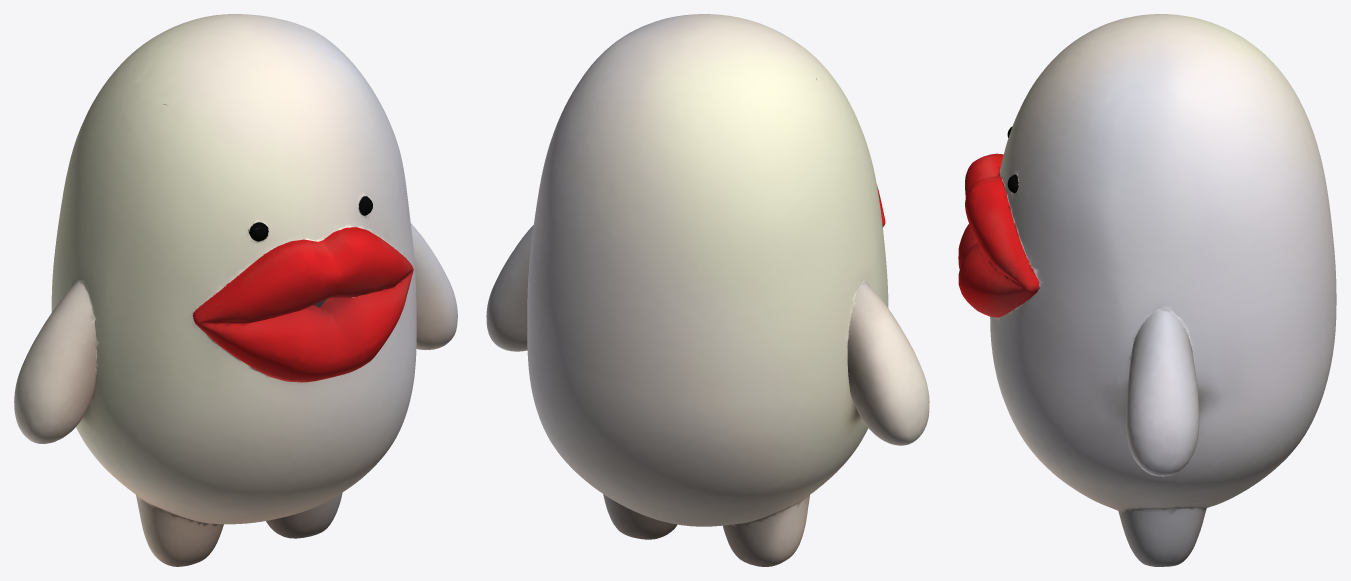
The model's file is oni.glb.
3 views of the same model, side by side, from view 1: azimuth 30°, elevation 25°; view 2: azimuth 150°, elevation 25°; view 3: azimuth 270°, elevation 25° (orthographic). The views are drawn at different scales.
Visible parts, largest first — view 1: world; view 2: world; view 3: world.
Boxes of the visible parts, x1,y1,x2,y2 form: world: (14,14,457,566); world: (486,14,929,566); world: (958,14,1336,566).
Bounding box in the file's own units: 0.8729 × 1 × 0.6851.
1 material, 1 textured.
